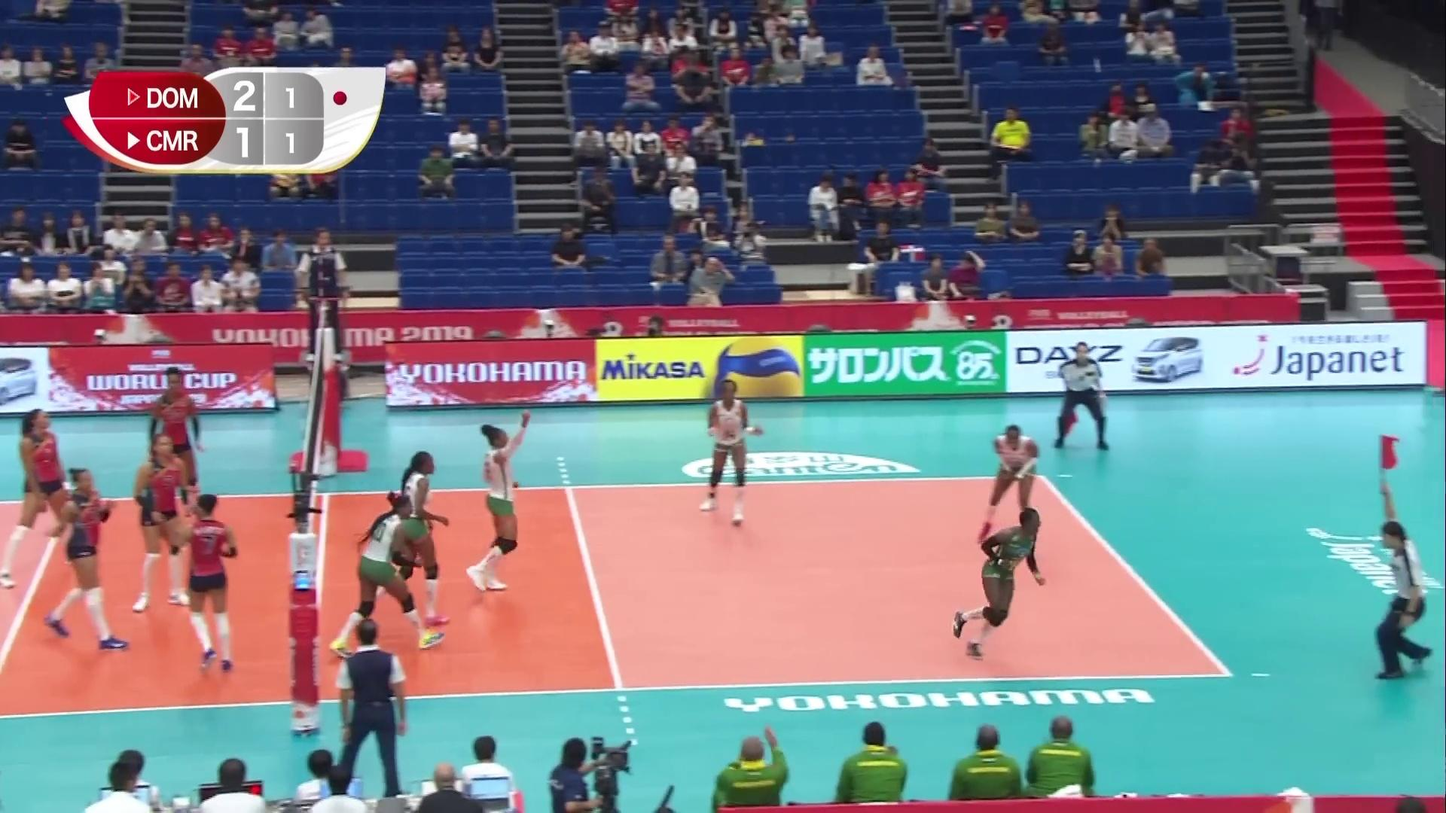player: (341, 492, 447, 656), (43, 470, 130, 650), (952, 504, 1045, 663), (168, 492, 244, 671), (0, 407, 74, 587), (131, 443, 208, 607), (381, 449, 456, 603), (468, 424, 533, 598), (979, 423, 1044, 595), (688, 380, 758, 524), (149, 365, 205, 518)
refree: (329, 618, 411, 806), (1368, 470, 1440, 680), (293, 227, 352, 367), (1052, 337, 1110, 452)
